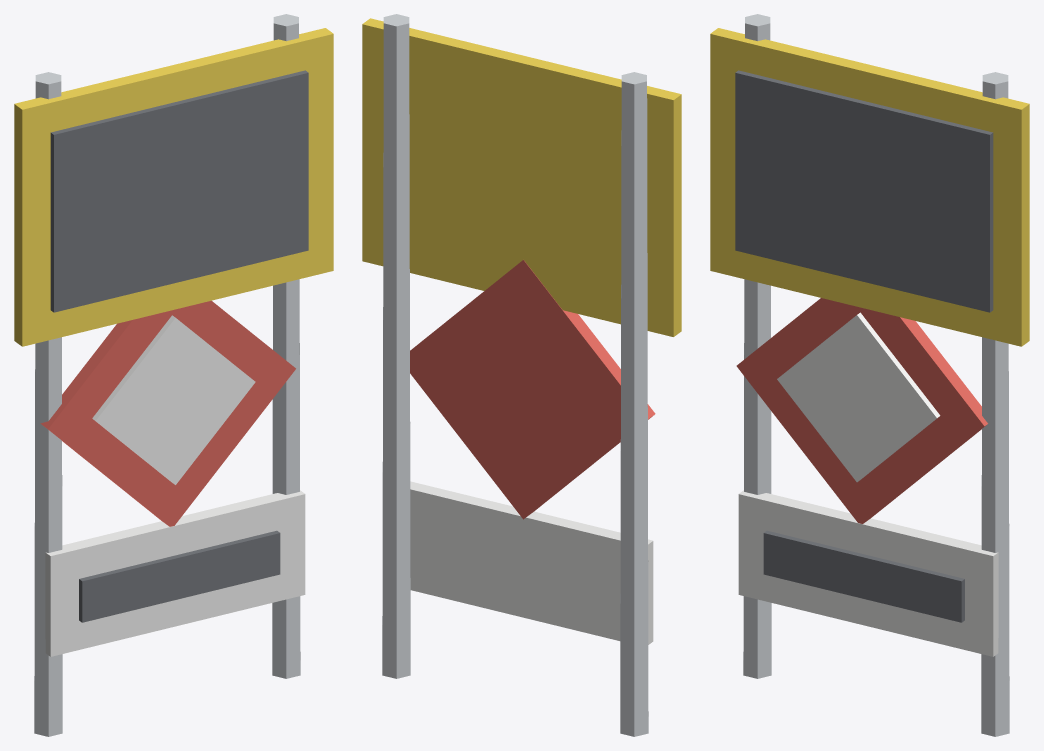
File: wind-and-solar-energy-farm-warning-sign-set-5d3e4dba__34074.glb
3 views of the same model, side by side, from view 1: azimuth 30°, elevation 25°; view 2: azimuth 150°, elevation 25°; view 3: azimuth 330°, elevation 25° (orthographic).
Parts seen in each view (by area): view 1: warning-sign-set; view 2: warning-sign-set; view 3: warning-sign-set.
Boxes of the visible parts, x1,y1,x2,y2 form: warning-sign-set: (14, 14, 333, 736); warning-sign-set: (362, 14, 681, 736); warning-sign-set: (710, 14, 1029, 736).
Bounding box in the file's own units: 1.1 × 2.2 × 0.1283.
